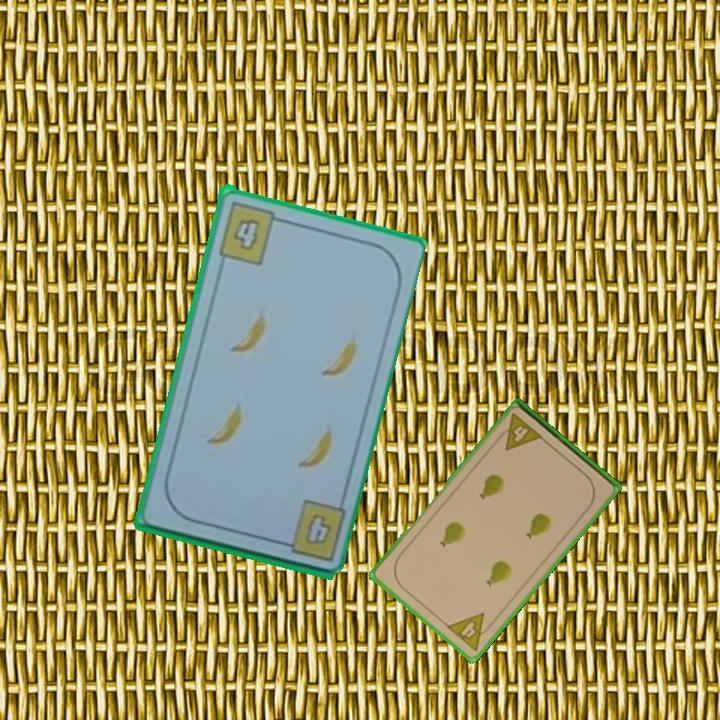4b: (273, 496, 348, 565), (214, 197, 287, 267)
4p: (443, 609, 497, 654), (492, 410, 546, 454)
